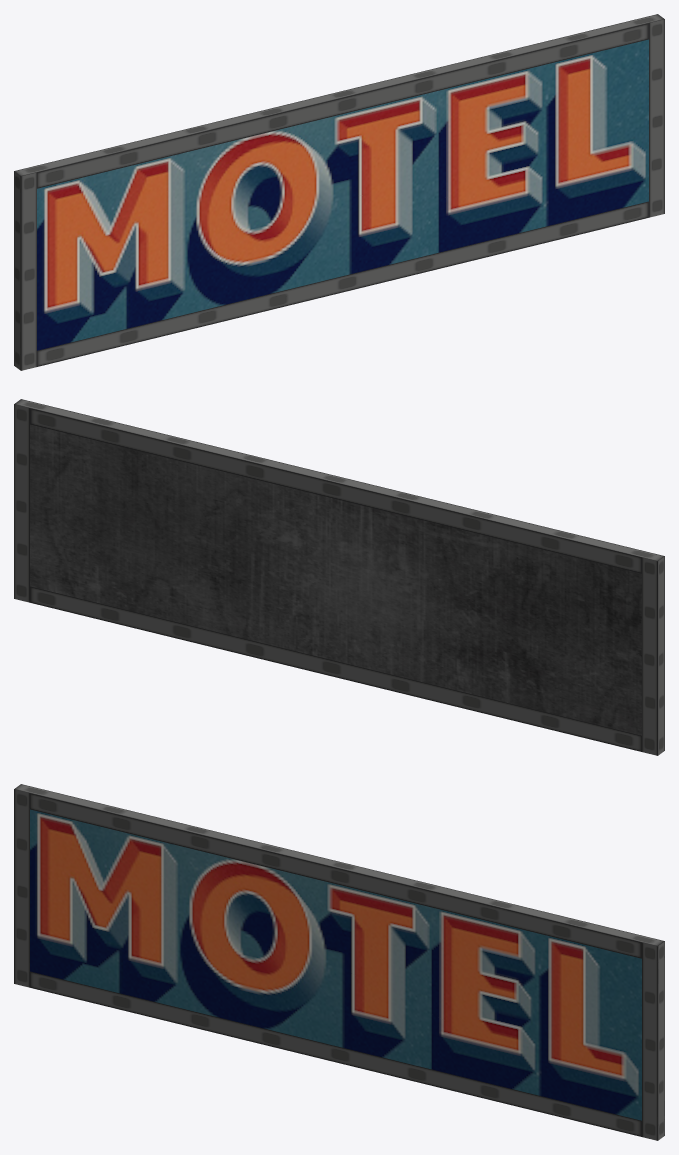
File: sign board1.FBX
3 views of the same model, one above another, from view 1: azimuth 30°, elevation 25°; view 2: azimuth 150°, elevation 25°; view 3: azimuth 330°, elevation 25° (orthographic).
Parts seen in each view (by area): view 1: sign board1; view 2: sign board1; view 3: sign board1.
Part boxes in pixels (box(x1,y1,x2,y2)): sign board1: box(14, 14, 664, 370); sign board1: box(14, 399, 664, 755); sign board1: box(14, 784, 664, 1140).
Bounding box in the file's own units: 30.02 × 8.67 × 0.5758.
